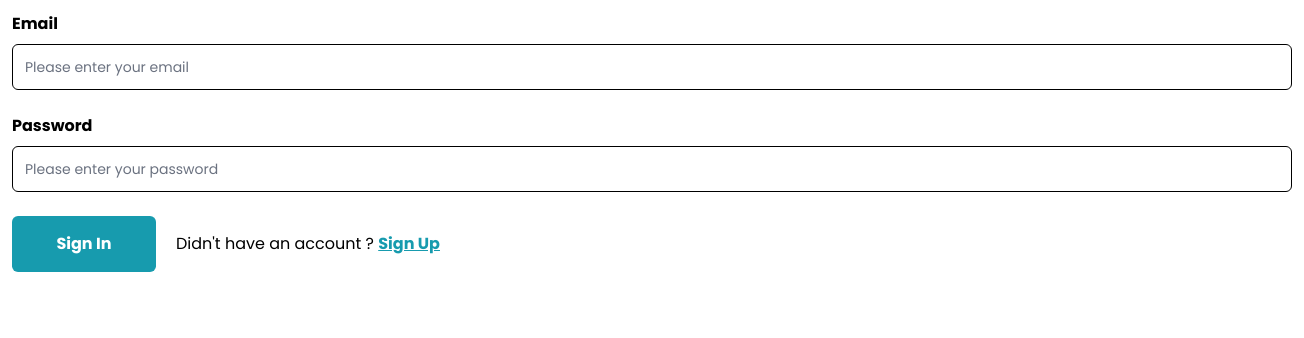
it: RegisterForm Component › displays validation errors when fields are empty
What coordinates should you click on to do the following:
click the button "Sign In"
I would click on:
 (84, 244)
Its box is [12,216,156,272].
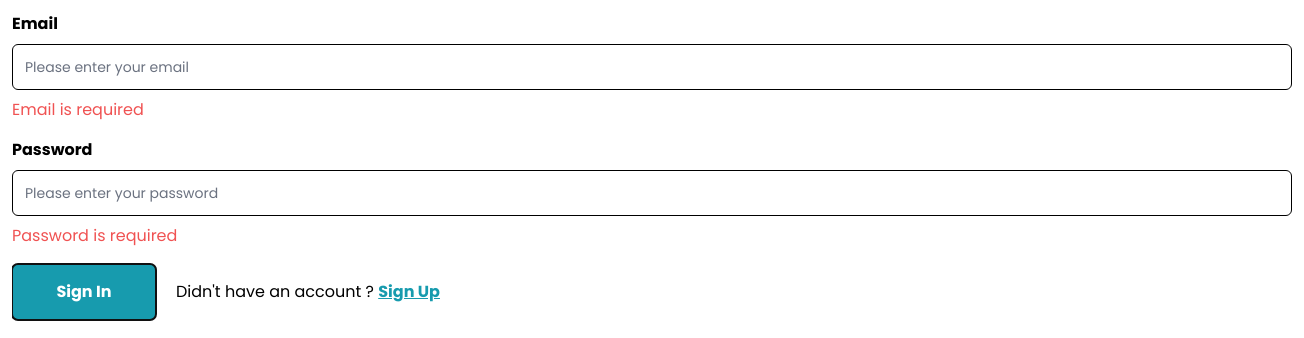
Result: the text "Email is required" is shown at [12,98,144,121]
Result: the text "Password is required" is shown at [12,224,177,247]
